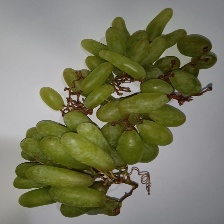grapes: (22, 25, 186, 180)
